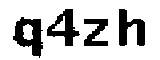4: (43, 6, 81, 48)
h: (116, 6, 150, 49)
q: (11, 14, 45, 59)
z: (82, 17, 110, 49)
